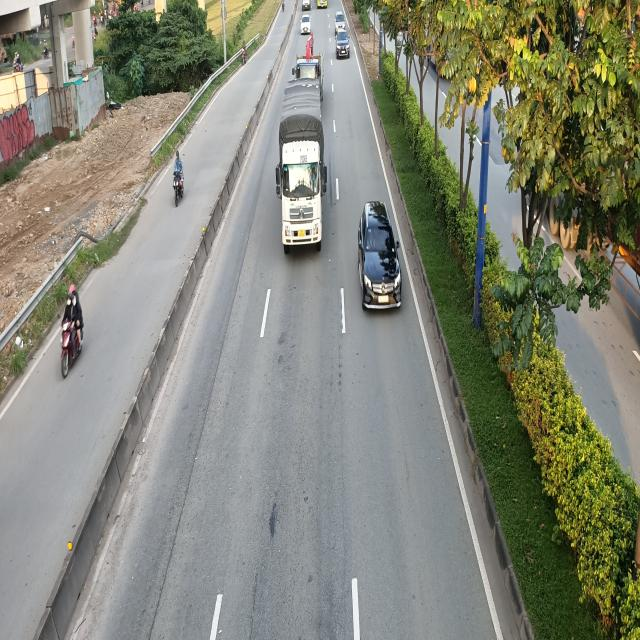car: (356, 201, 400, 313), (336, 28, 352, 58), (300, 15, 312, 36)
truck: (274, 38, 328, 251)
